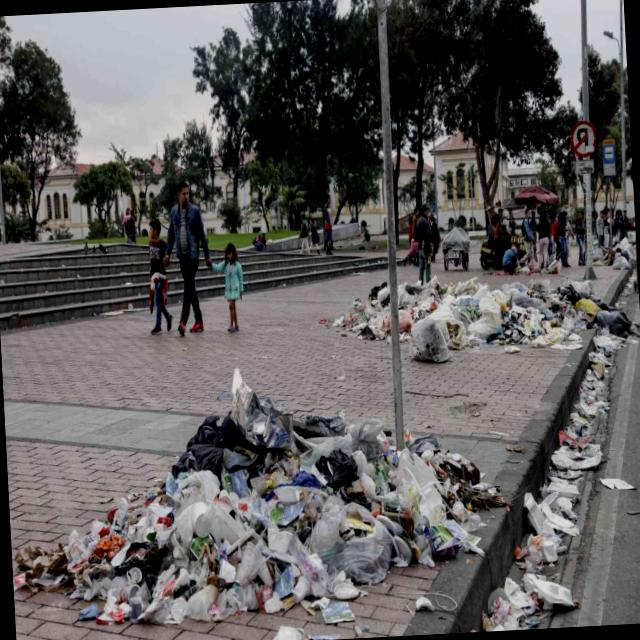garbage: (2, 345, 640, 640), (322, 264, 634, 364)
